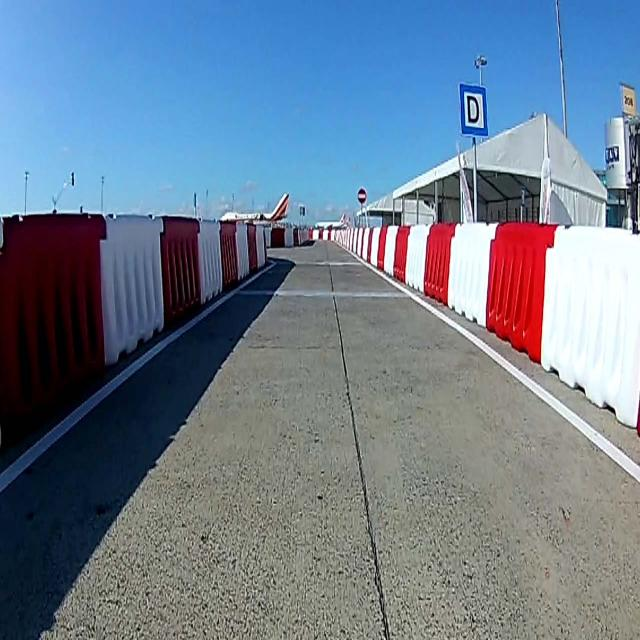durak: (460, 82, 488, 137)
girisyok: (357, 185, 367, 204)
